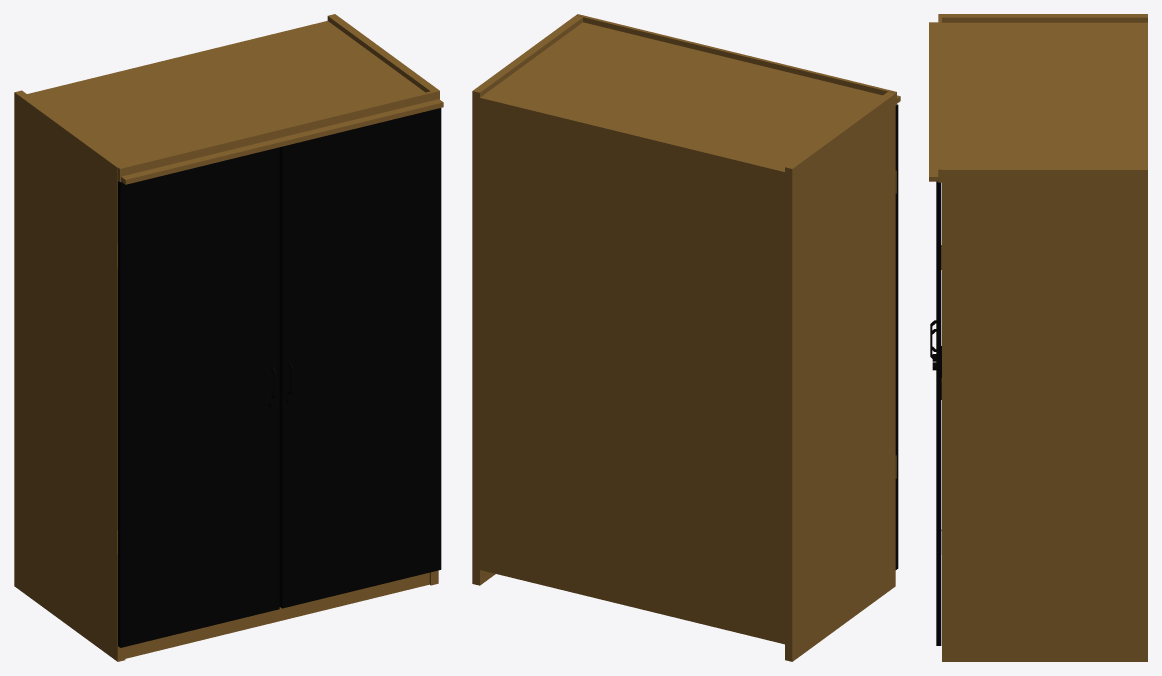
Rendered from ropero.fbx.
3 renders of one model, left to right at view 1: azimuth 30°, elevation 25°; view 2: azimuth 150°, elevation 25°; view 3: azimuth 270°, elevation 25°, orthographic.
Visible parts, largest first — view 1: polySurface47; view 2: polySurface47; view 3: polySurface47.
Boxes of the visible parts, x1,y1,x2,y2 form: polySurface47: (14,14,443,661); polySurface47: (472,14,900,661); polySurface47: (929,14,1147,661).
Size of the model in its own units: 8.51 by 12.46 by 5.02.
